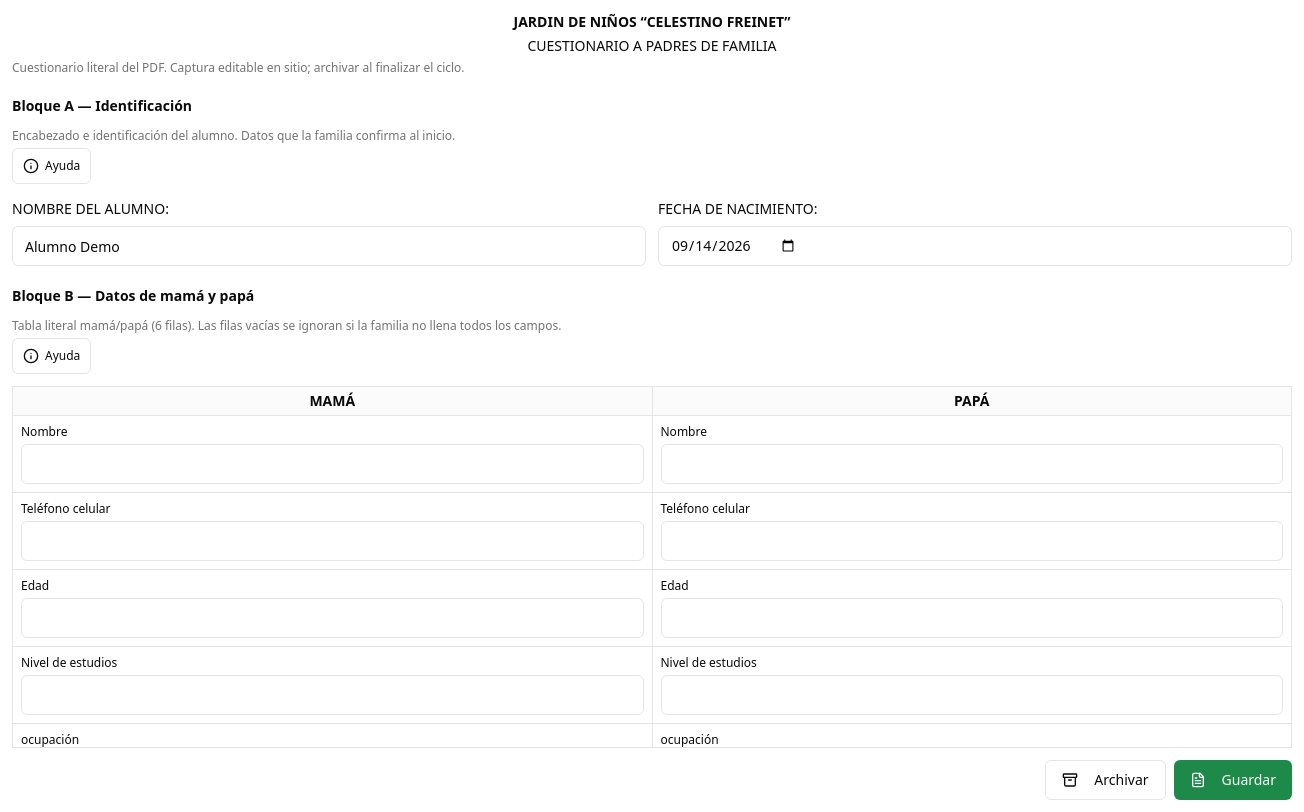
Test: IMPL-20260821-05 — EntrevistaFamiliarForm › DEC-20260821-02 — guía contextual por bloque › el tooltip abre con clic/toque, role="tooltip", y muestra el detalle de DEC-20260821-02
// Clic/toque (no hover).
Click the button with test id "section-help-familiar-bloque-a-button". click: click(52, 166)
box: 12,148 -> 91,184
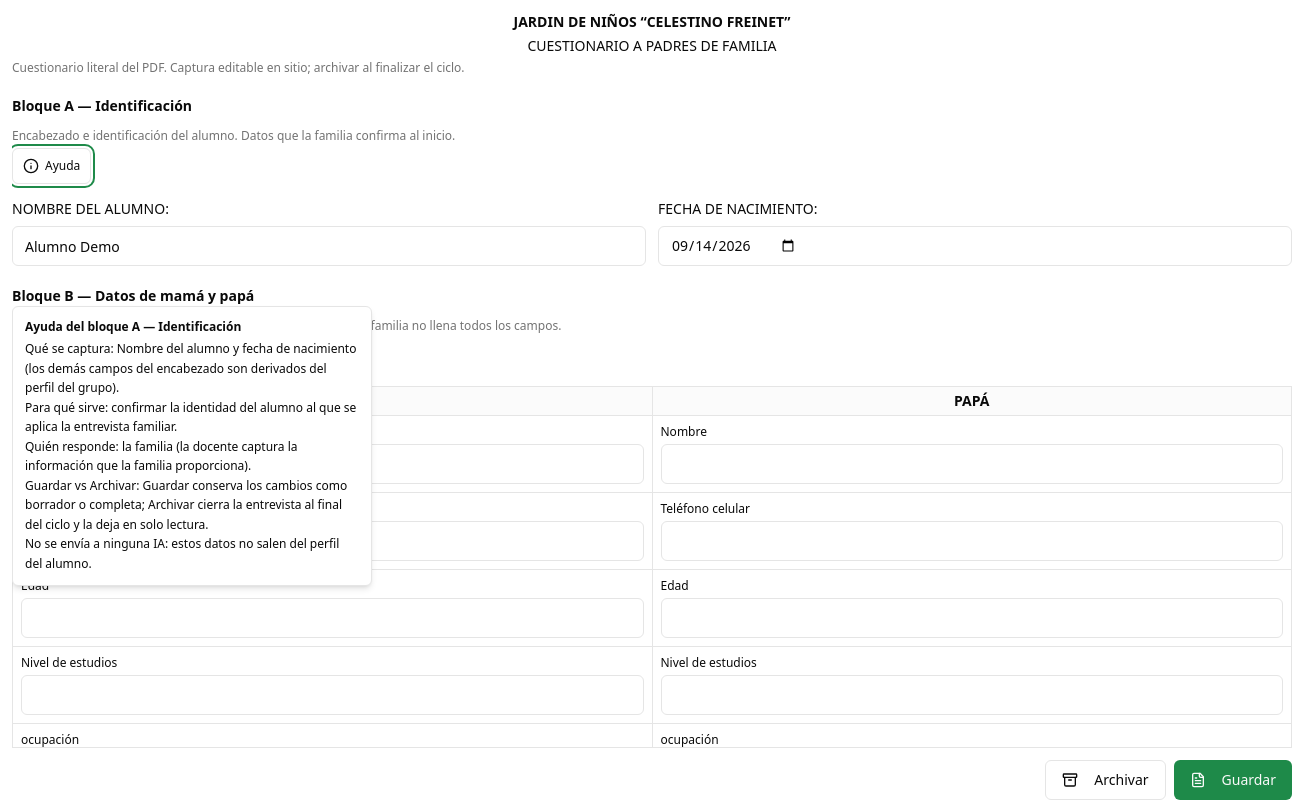
Expected: the tooltip with test id "section-help-familiar-bloque-a-panel" shows "Guardar vs Archivar", 25,340 -> 356,572
